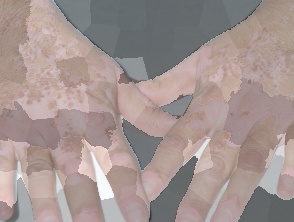vitiligo: (0, 0, 182, 222), (138, 0, 294, 222)
